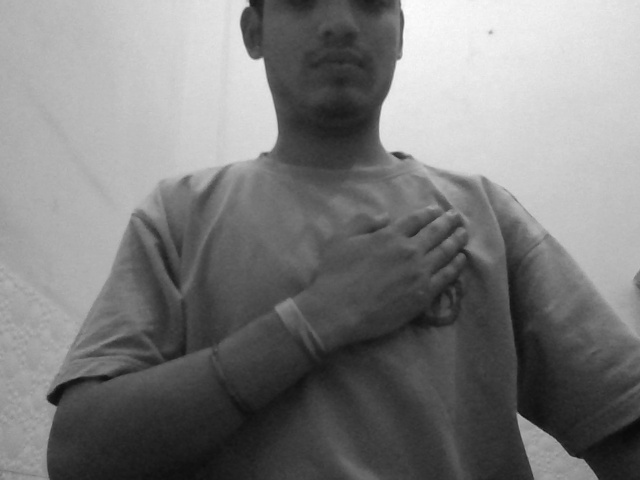Sorry: (297, 193, 505, 352)
